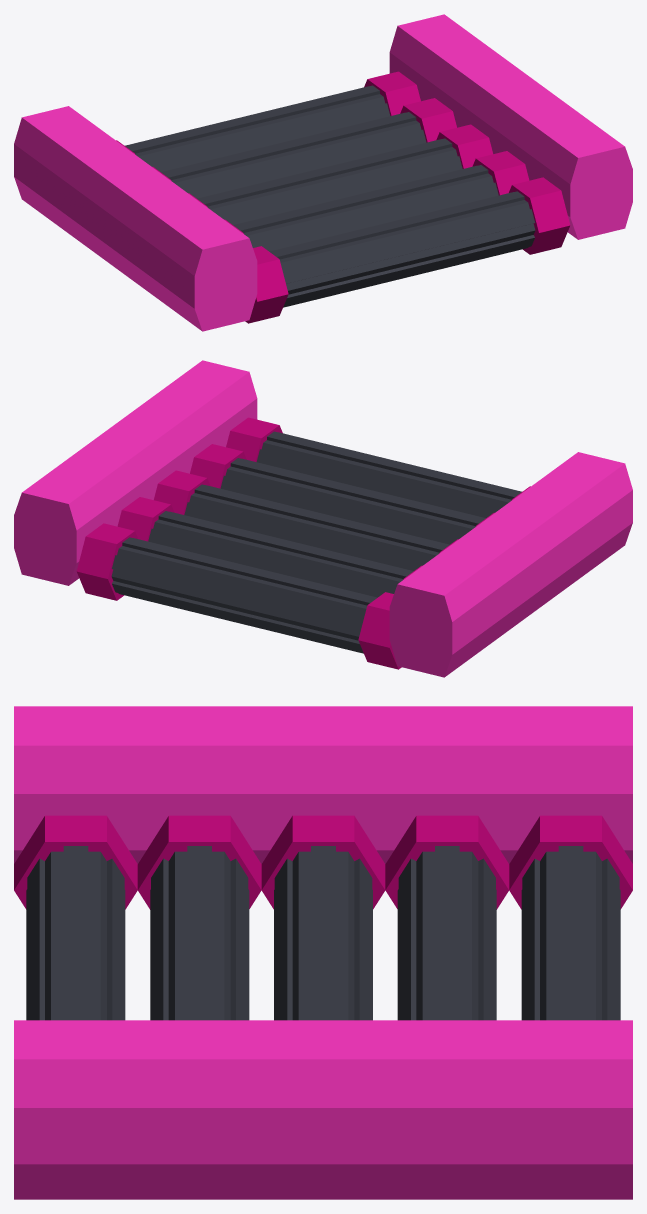
Rendered from Conveyor.fbx.
3 renders of one model, top to bottom at view 1: azimuth 30°, elevation 25°; view 2: azimuth 150°, elevation 25°; view 3: azimuth 270°, elevation 25°, orthographic. The views are drawn at different scales.
Visible parts, largest first — view 1: clipBarrel_large (×5), mediumBlaster_center (×2); view 2: clipBarrel_large (×5), mediumBlaster_center (×2); view 3: mediumBlaster_center (×2), clipBarrel_large (×5).
Boxes of the visible parts, x1,y1,x2,y2 form: clipBarrel_large (×5): (116, 71, 570, 323); mediumBlaster_center (×2): (14, 14, 632, 331); clipBarrel_large (×5): (76, 417, 530, 669); mediumBlaster_center (×2): (14, 360, 632, 677); mediumBlaster_center (×2): (14, 706, 632, 1199); clipBarrel_large (×5): (14, 815, 632, 1020).
Bounding box in the file's own units: 14 × 2.87 × 10.
